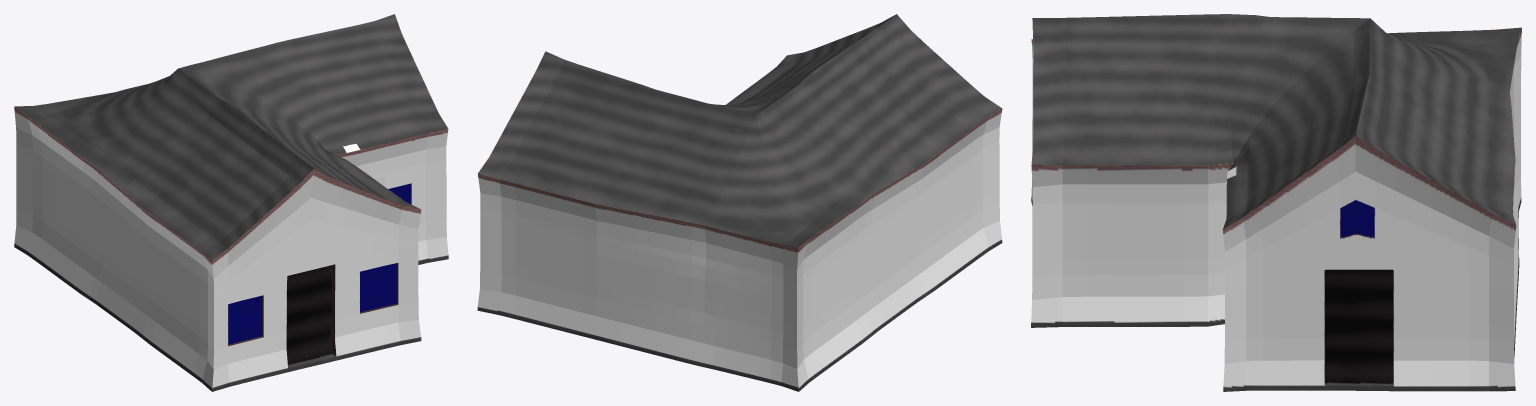
File: House_2.fbx
3 views of the same model, side by side, from view 1: azimuth 30°, elevation 25°; view 2: azimuth 150°, elevation 25°; view 3: azimuth 270°, elevation 25° (orthographic). The views are drawn at different scales.
Parts seen in each view (by area): view 1: House 2 EXP; view 2: House 2 EXP; view 3: House 2 EXP.
Boxes of the visible parts, x1=… form: House 2 EXP: x1=14, y1=14, x2=448, y2=391; House 2 EXP: x1=477, y1=14, x2=1002, y2=391; House 2 EXP: x1=1031, y1=14, x2=1521, y2=391.
Size of the model in its own units: 714 by 447 by 778.
Materials: 1 (1 with a texture image).
